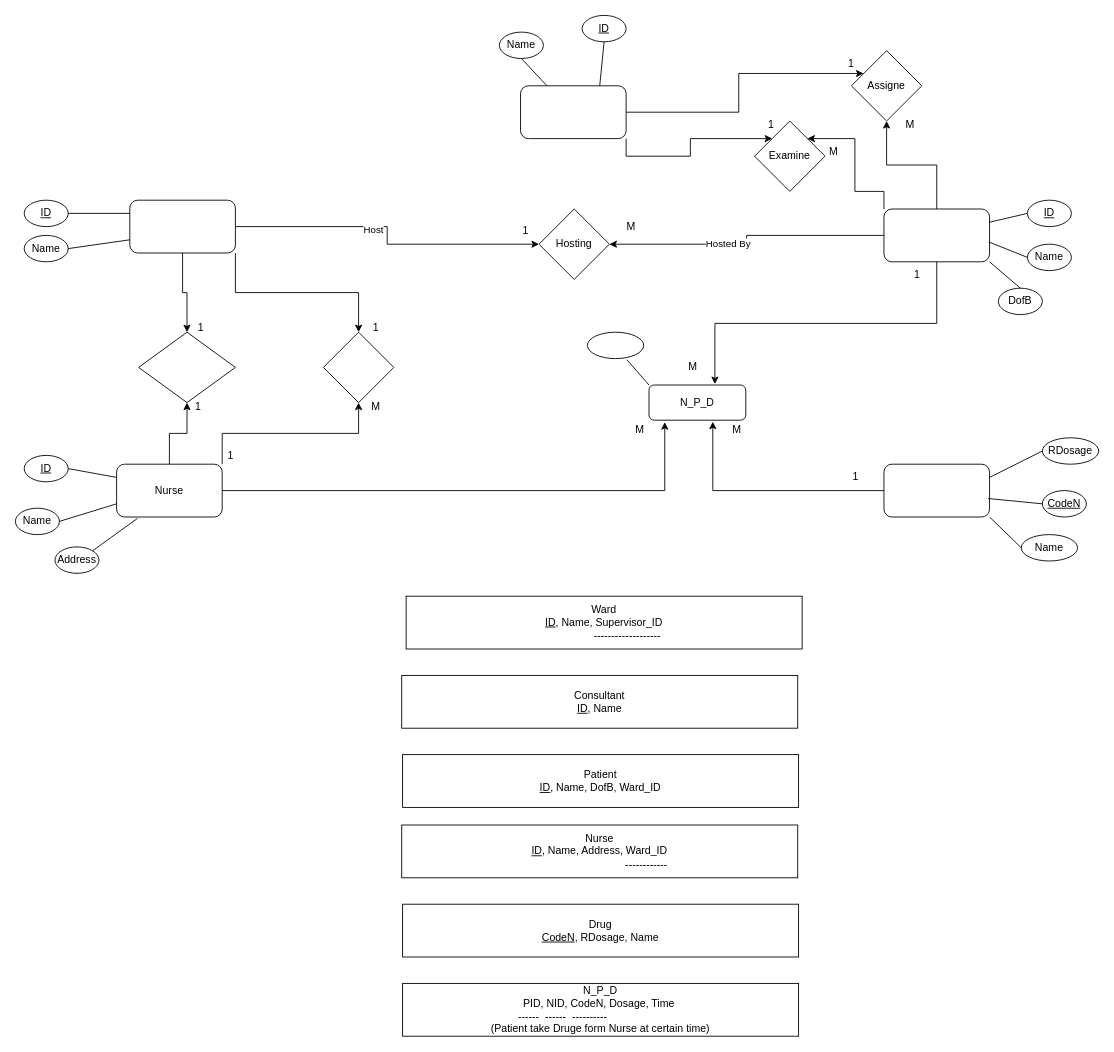
The diagram is 1114 pixels wide and 1052 high, and some of its shapes have lost their labels. Each missing label, with the centre of its shape:
Consultant: the point at 573,112
Drug: the point at 936,490
Patient: the point at 936,235
Serve: the point at 358,367
supervision: the point at 186,367
Time: the point at 615,345
Ward: the point at 182,226
